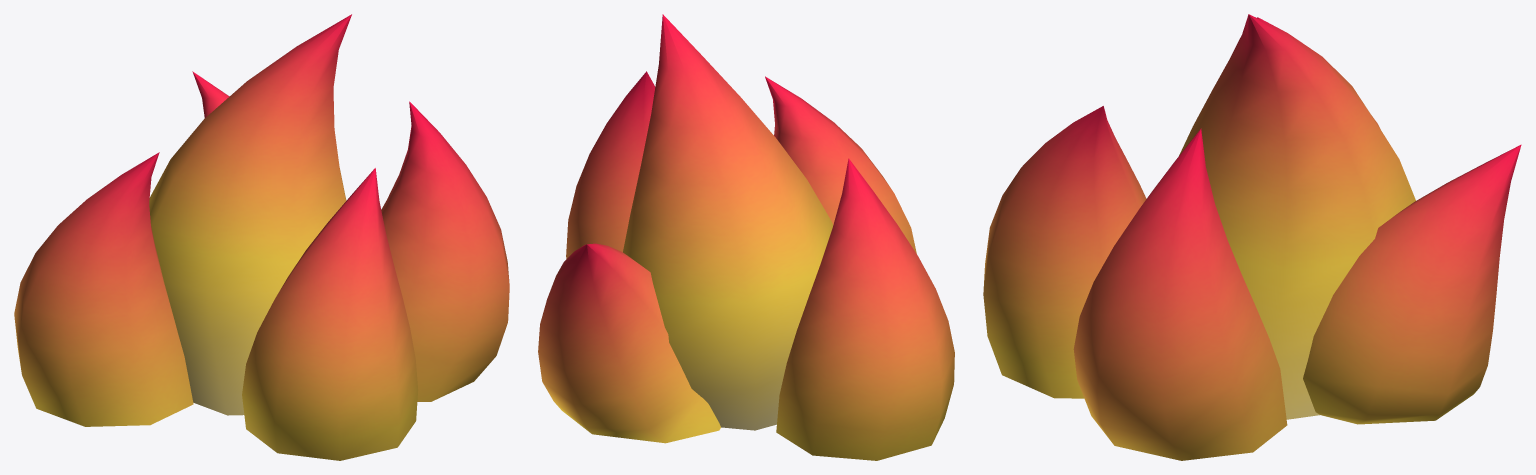
The model's file is Flame.fbx.
3 views of the same model, side by side, from view 1: azimuth 30°, elevation 25°; view 2: azimuth 150°, elevation 25°; view 3: azimuth 270°, elevation 25° (orthographic). The views are drawn at different scales.
Parts seen in each view (by area): view 1: Flame; view 2: Flame; view 3: Flame.
Boxes of the visible parts, box(x1,y1,x2,y2) form: Flame: box(14, 14, 509, 460); Flame: box(538, 14, 954, 460); Flame: box(983, 14, 1521, 460).
Size of the model in its own units: 147 by 113 by 139.
Materials: 1 (1 with a texture image).
